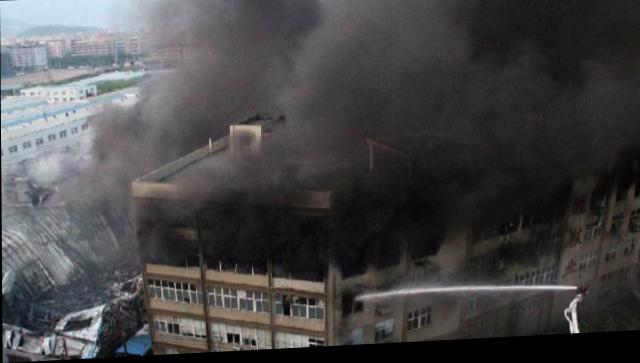smoke: (258, 85, 638, 216), (138, 0, 473, 102), (75, 101, 189, 208)
